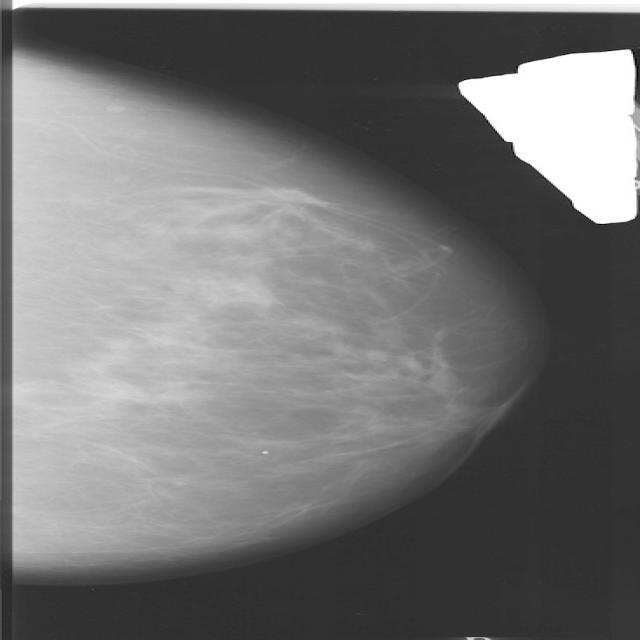tumour: (263, 186, 333, 208)
